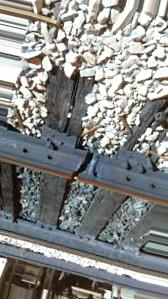tracks_fault: (8, 95, 165, 226)
